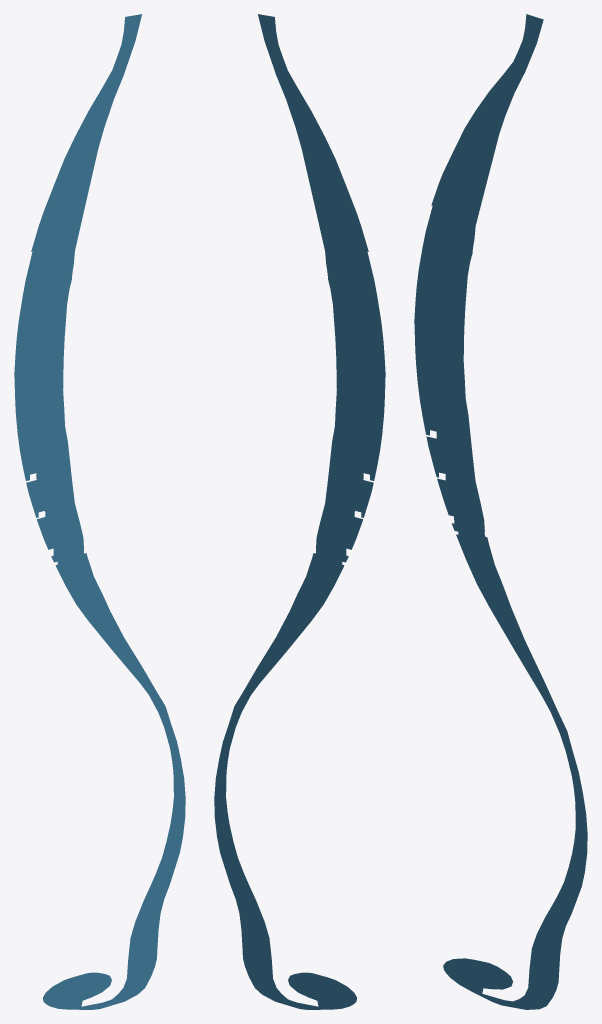
File: water.obj
3 views of the same model, side by side, from view 1: azimuth 30°, elevation 25°; view 2: azimuth 150°, elevation 25°; view 3: azimuth 330°, elevation 25° (orthographic).
Parts seen in each view (by area): view 1: beijing_olympic_axis_water; view 2: beijing_olympic_axis_water; view 3: beijing_olympic_axis_water.
Part boxes in pixels (left/top/right/bottom): beijing_olympic_axis_water: left=14, top=14, right=185, bottom=1009; beijing_olympic_axis_water: left=214, top=14, right=385, bottom=1009; beijing_olympic_axis_water: left=414, top=14, right=587, bottom=1009.
Bounding box in the file's own units: 422 × 2324 × 0.
